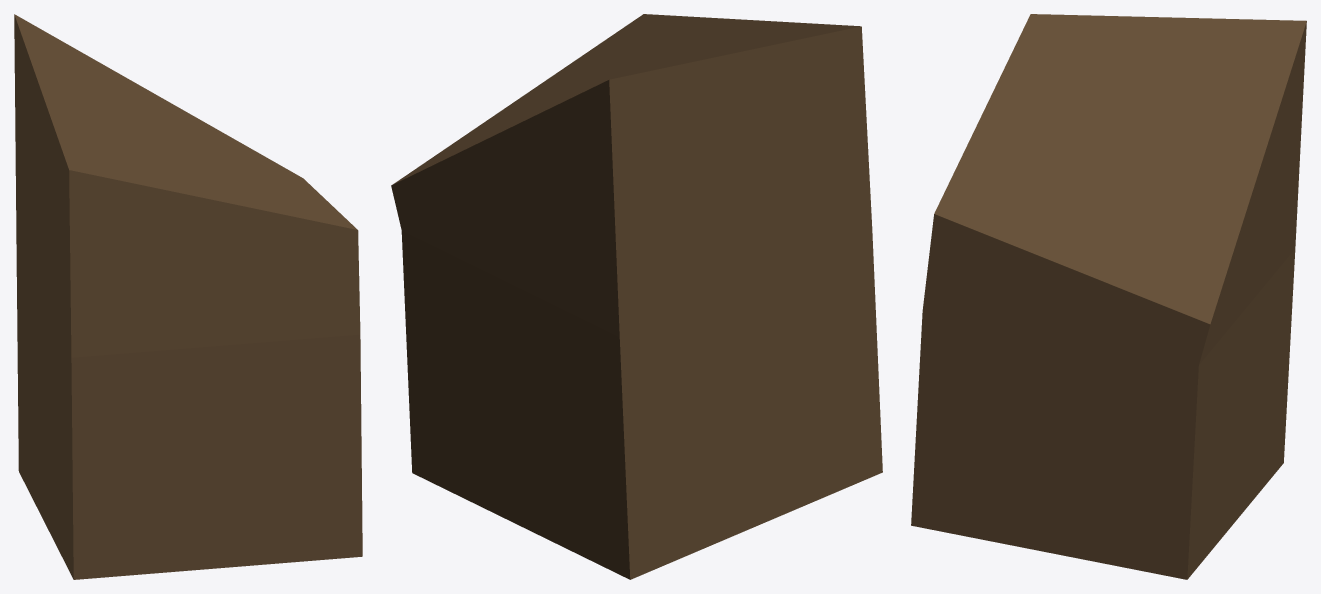
File: tronc_universel.fbx
3 views of the same model, side by side, from view 1: azimuth 30°, elevation 25°; view 2: azimuth 150°, elevation 25°; view 3: azimuth 270°, elevation 25° (orthographic). The views are drawn at different scales.
Visible parts, largest first — view 1: Plan.009; view 2: Plan.009; view 3: Plan.009.
Boxes of the visible parts, left/top/right/bottom form: Plan.009: left=14, top=14, right=362, bottom=579; Plan.009: left=391, top=14, right=882, bottom=579; Plan.009: left=911, top=14, right=1306, bottom=579.
Bounding box in the file's own units: 81.45 × 105 × 84.61.
